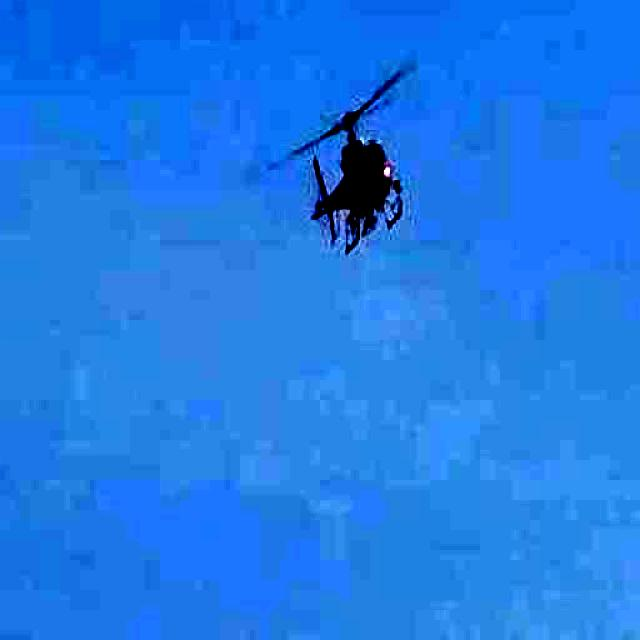drone: (232, 39, 476, 275)
